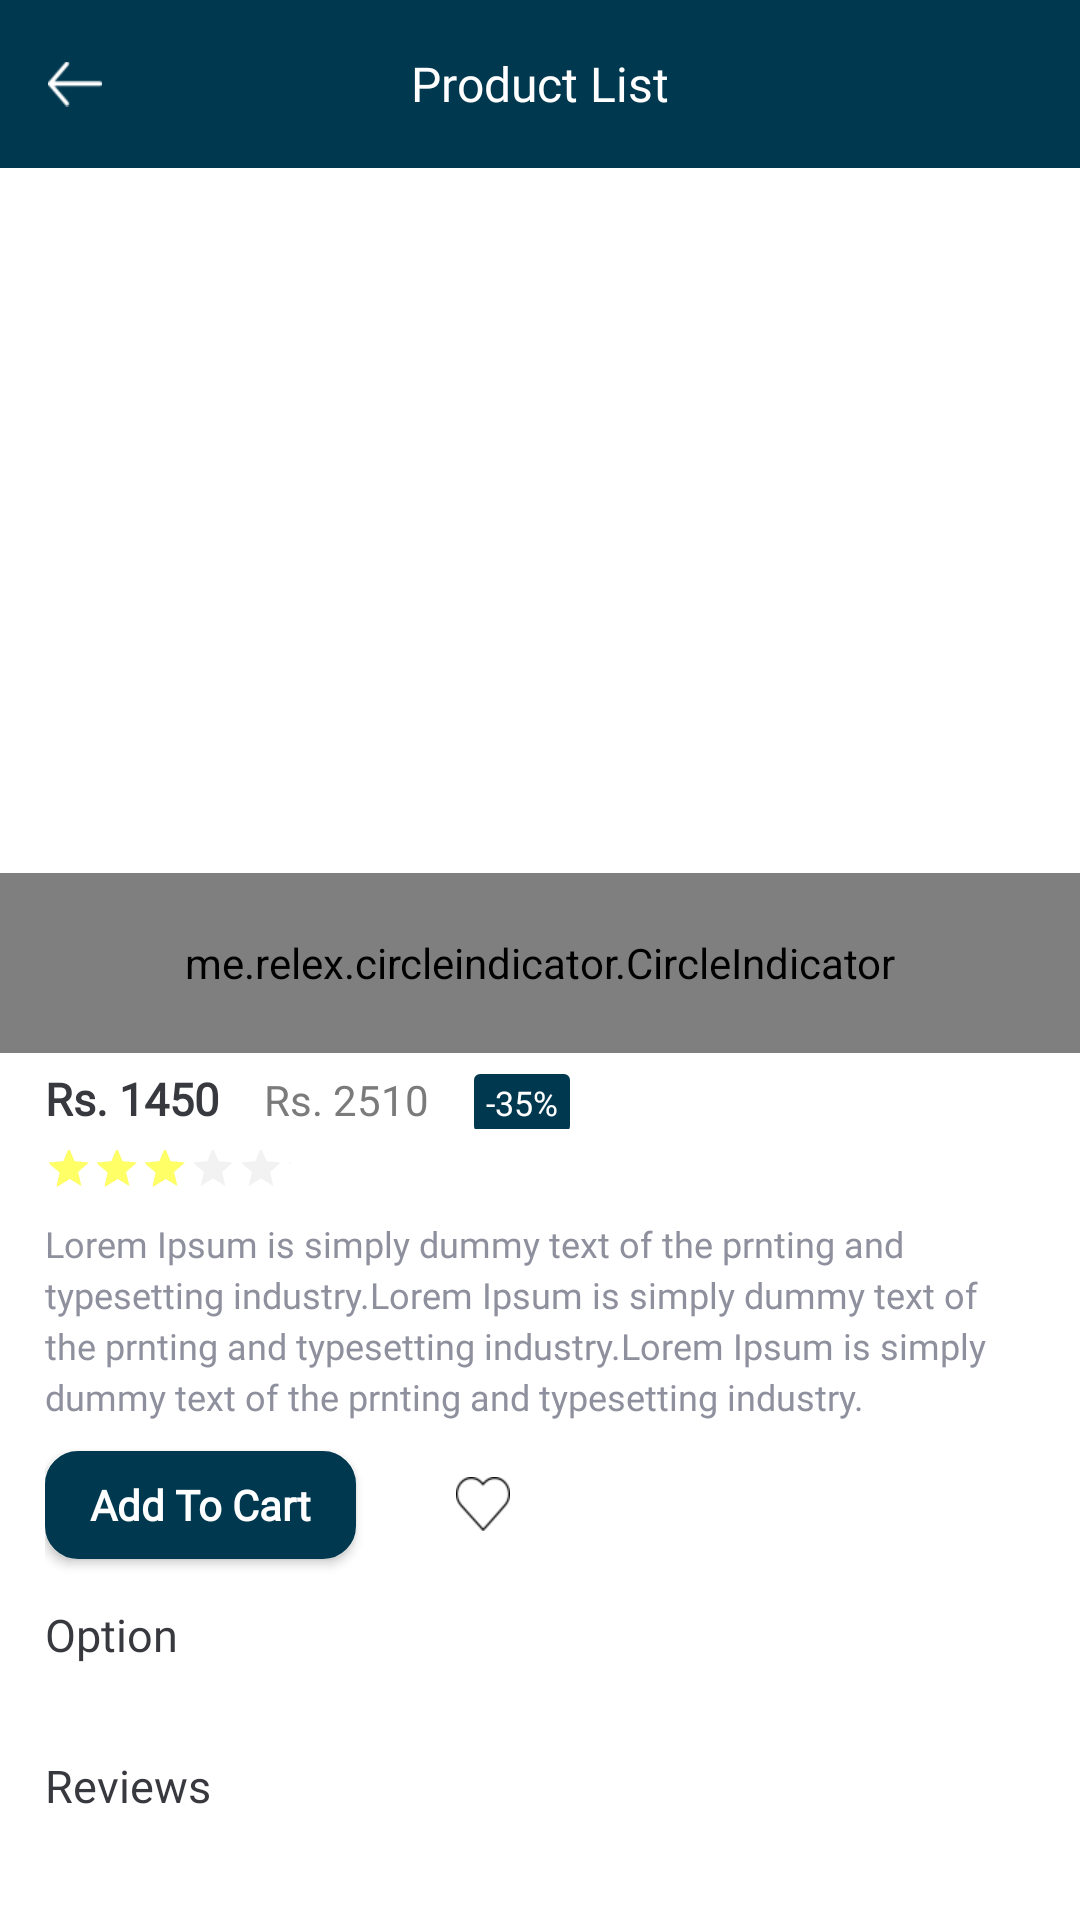

Screen size 1080 x 1920. Icon name, then its center in pixels as point (x, y):
back: point (75, 84)
heart: point (483, 1504)
